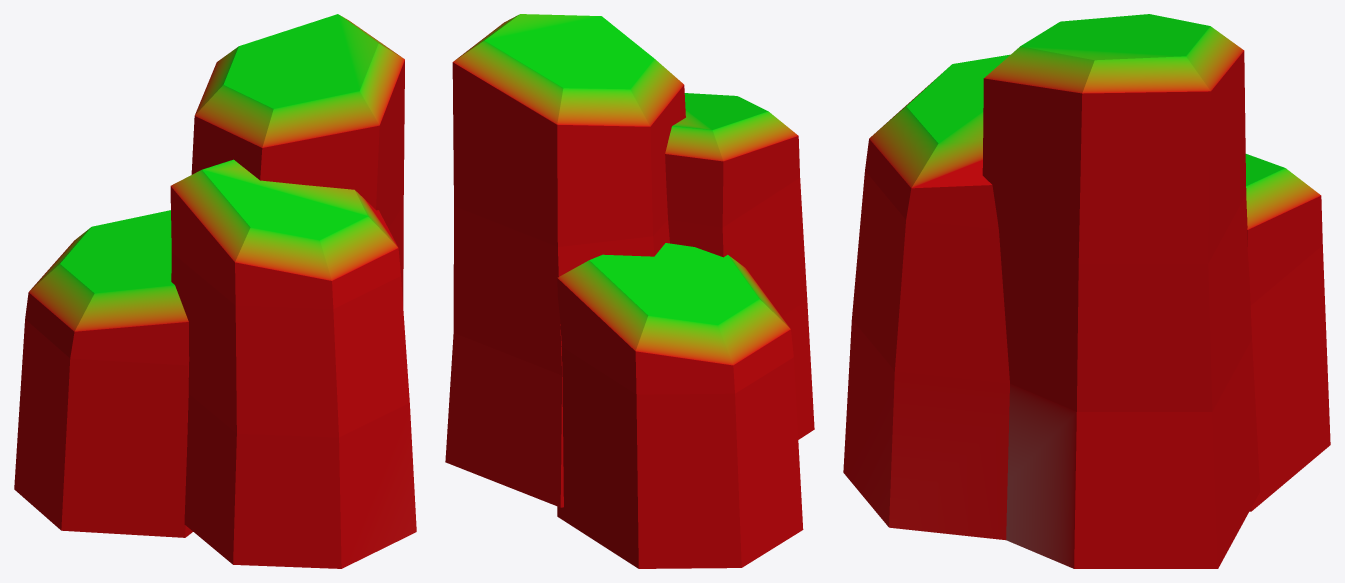
The model's file is Sunken Tomb Boulder Pillar.fbx.
3 renders of one model, left to right at view 1: azimuth 30°, elevation 25°; view 2: azimuth 150°, elevation 25°; view 3: azimuth 270°, elevation 25°, orthographic. The views are drawn at different scales.
Visible parts, largest first — view 1: Layered Boulders; view 2: Layered Boulders; view 3: Layered Boulders.
Part boxes in pixels (<box>): Layered Boulders: <box>14,14,416,568</box>; Layered Boulders: <box>445,14,814,568</box>; Layered Boulders: <box>843,14,1330,568</box>.
Bounding box in the file's own units: 487 × 620 × 533.
